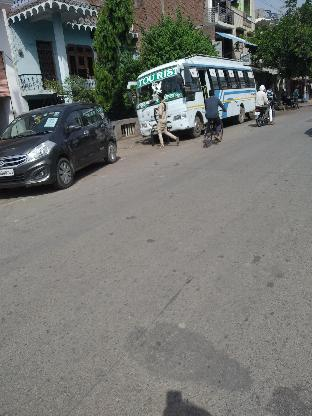bus: (127, 54, 257, 138)
